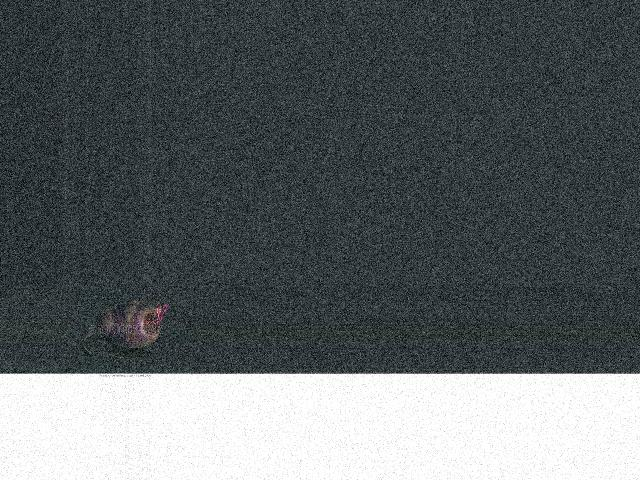beet: (82, 300, 171, 358)
